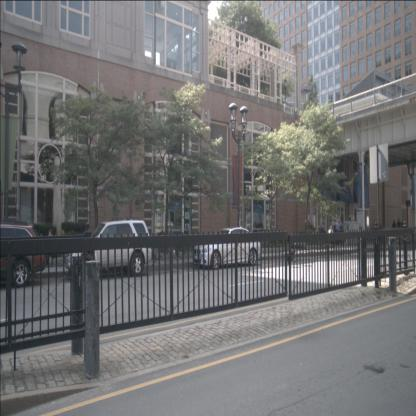human-pedestrian-adult: (46, 230, 56, 265), (338, 220, 344, 245), (334, 220, 340, 245), (319, 224, 326, 245), (328, 225, 334, 245), (392, 220, 396, 241), (397, 218, 400, 239)
vehicle-car: (65, 218, 152, 276), (194, 226, 262, 270), (0, 225, 46, 286)
